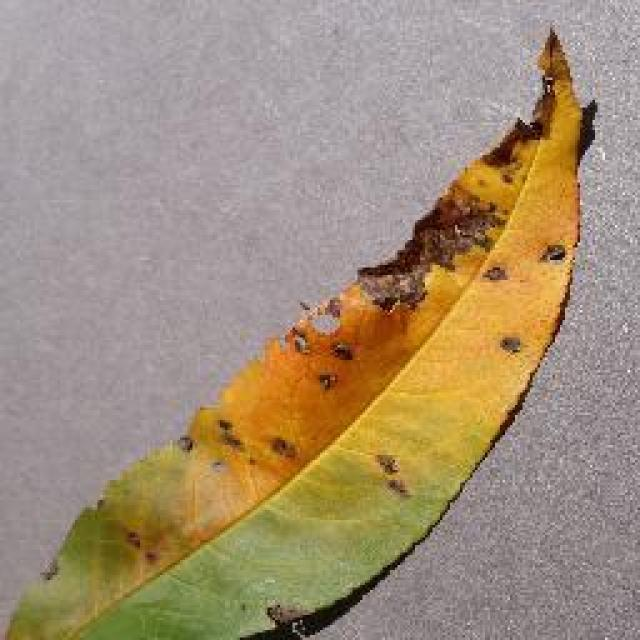Bacterial_spot: (48, 12, 600, 631)
